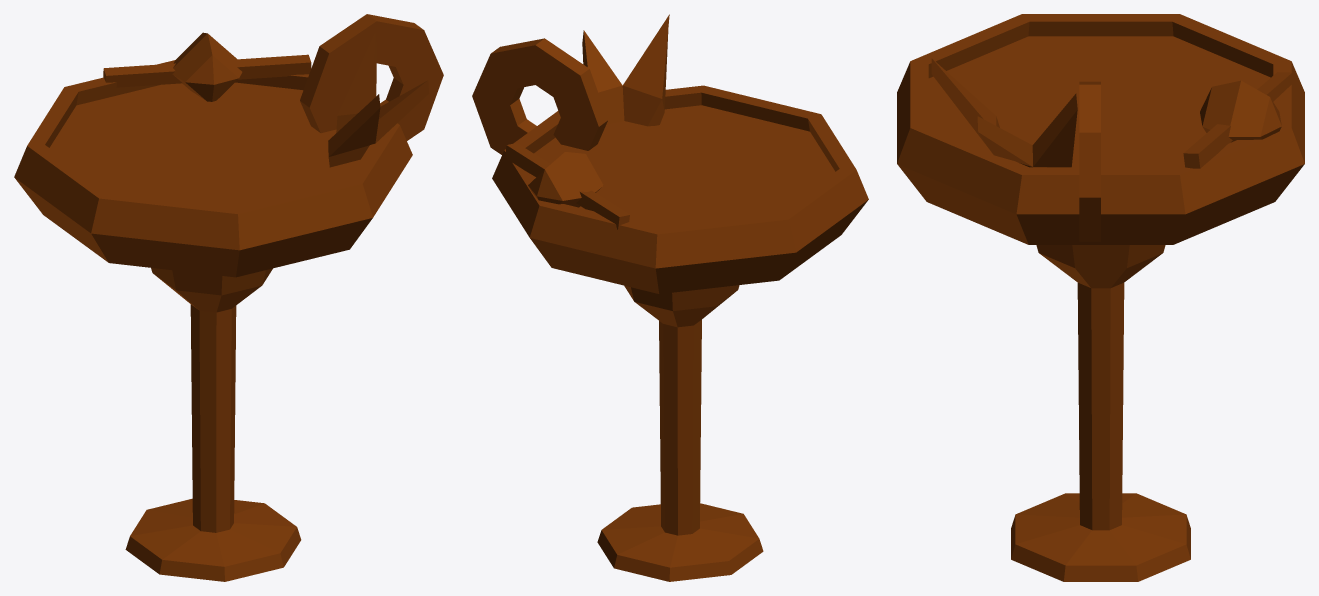
The model's file is SM_Prop_Bar_Glass_09.obj.
The picture shows the model from 3 angles, left to right: view 1: azimuth 30°, elevation 25°; view 2: azimuth 150°, elevation 25°; view 3: azimuth 270°, elevation 25°; orthographic projection. The views are drawn at different scales.
Visible parts, largest first — view 1: SM_Prop_Bar_Glass_09_0; view 2: SM_Prop_Bar_Glass_09_0; view 3: SM_Prop_Bar_Glass_09_0.
Boxes of the visible parts, x1,y1,x2,y2 form: SM_Prop_Bar_Glass_09_0: (14,14,443,581); SM_Prop_Bar_Glass_09_0: (472,14,868,581); SM_Prop_Bar_Glass_09_0: (897,14,1304,581).
Bounding box in the file's own units: 0.2309 × 0.2854 × 0.1948.
